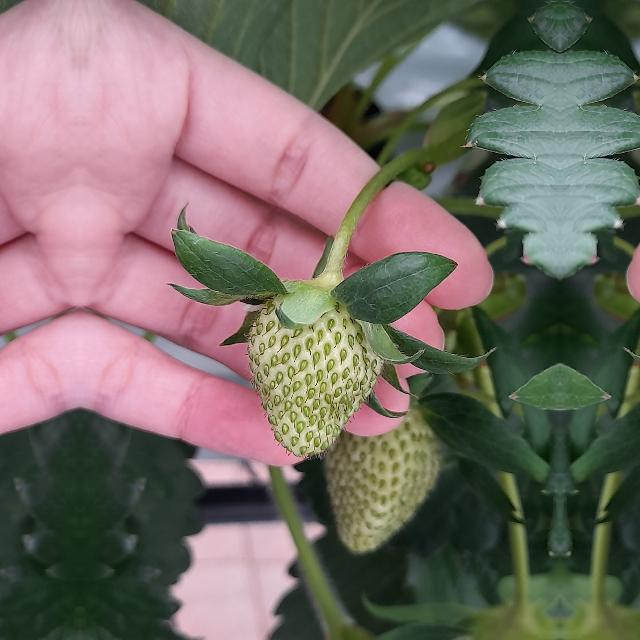Health_25: (246, 293, 382, 457), (317, 404, 457, 554)
